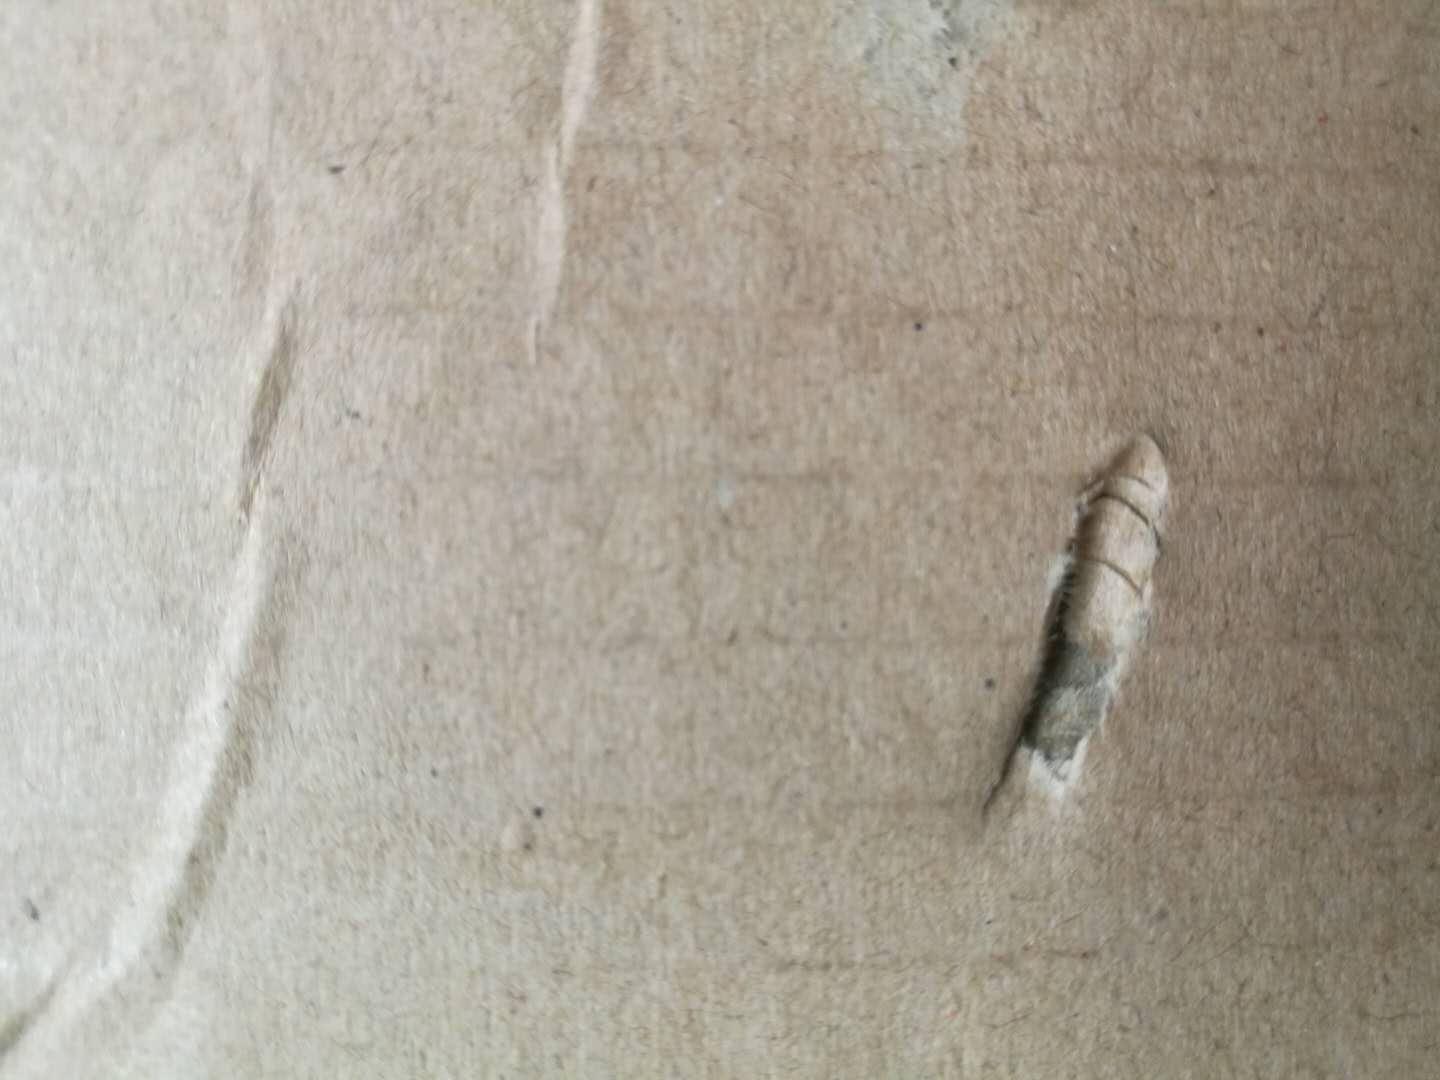defect: (5, 10, 372, 1079), (934, 403, 1208, 895), (491, 1, 657, 382)
